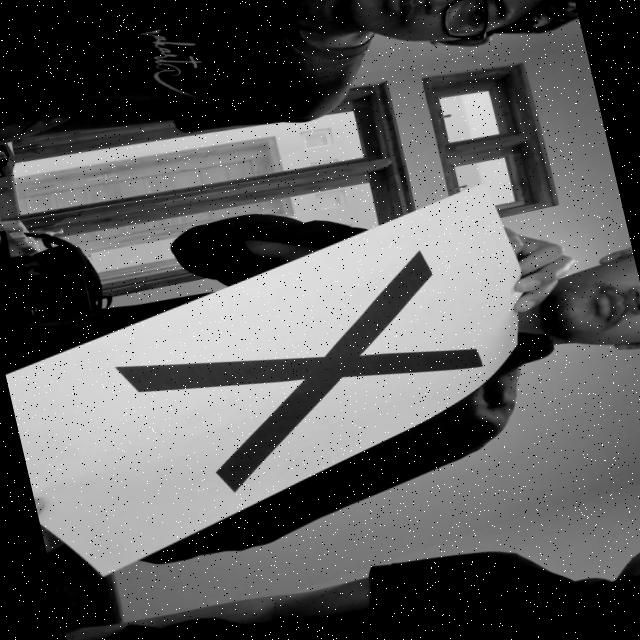x: (100, 227, 524, 522)
